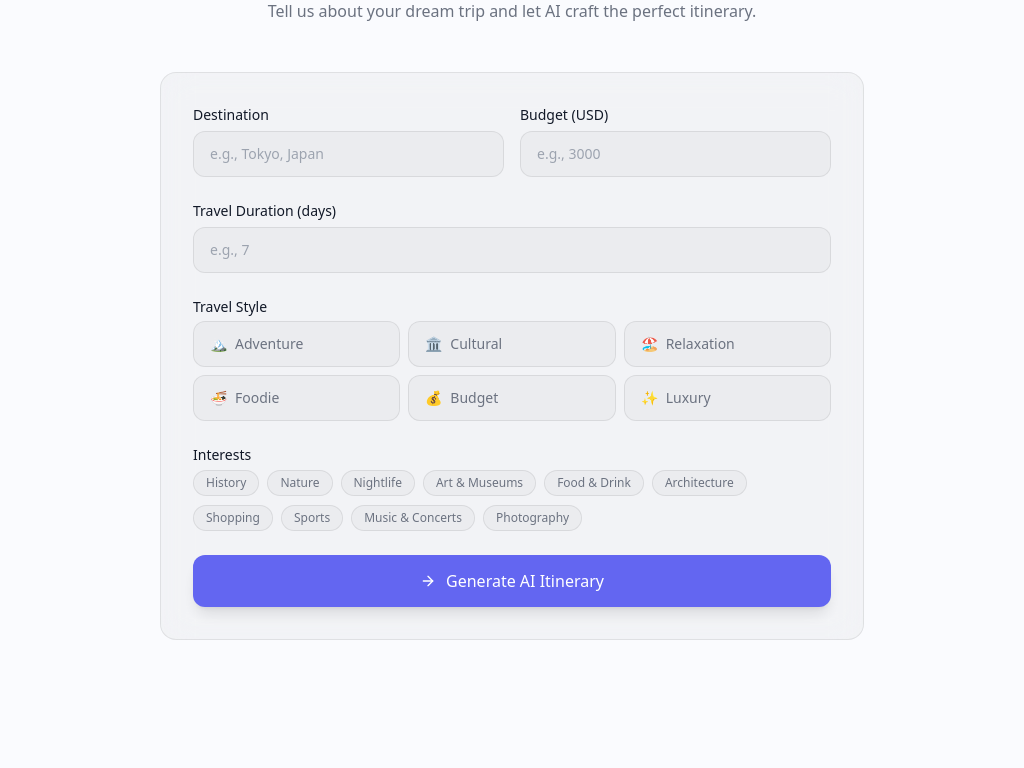
Test: DestinationForm › should validate form and show error messages on empty submit
(page scrolled)
What coordinates should you click on to do the following:
click the button "Generate AI Itinerary"
I would click on:
 (512, 581)
Its box is [193,555,831,607].
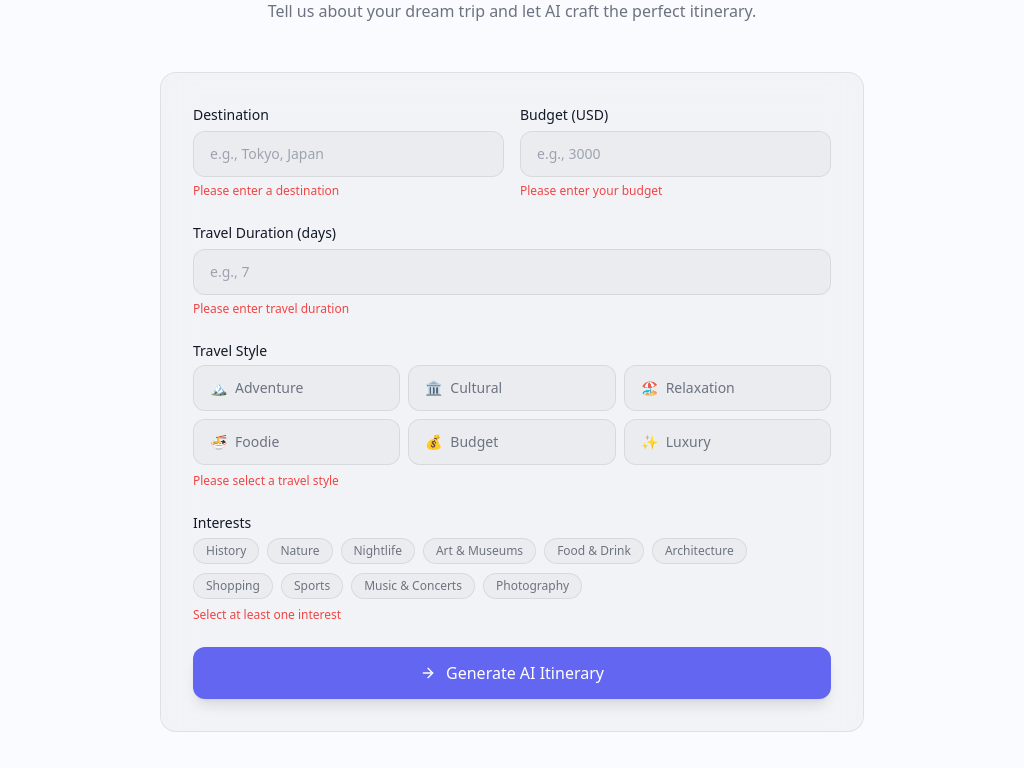
Now the text "Please enter a destination" is shown, box [193,182,339,199]
Now the text "Please enter your budget" is shown, box [520,182,662,199]
Now the text "Please enter travel duration" is shown, box [193,300,349,317]
